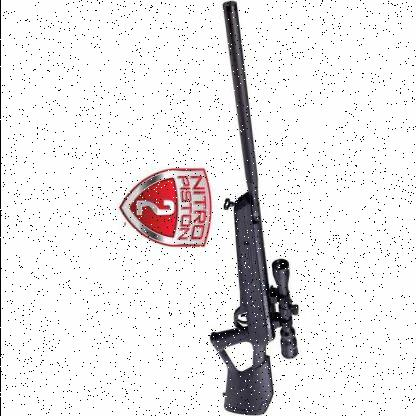rifle: (182, 0, 311, 412)
